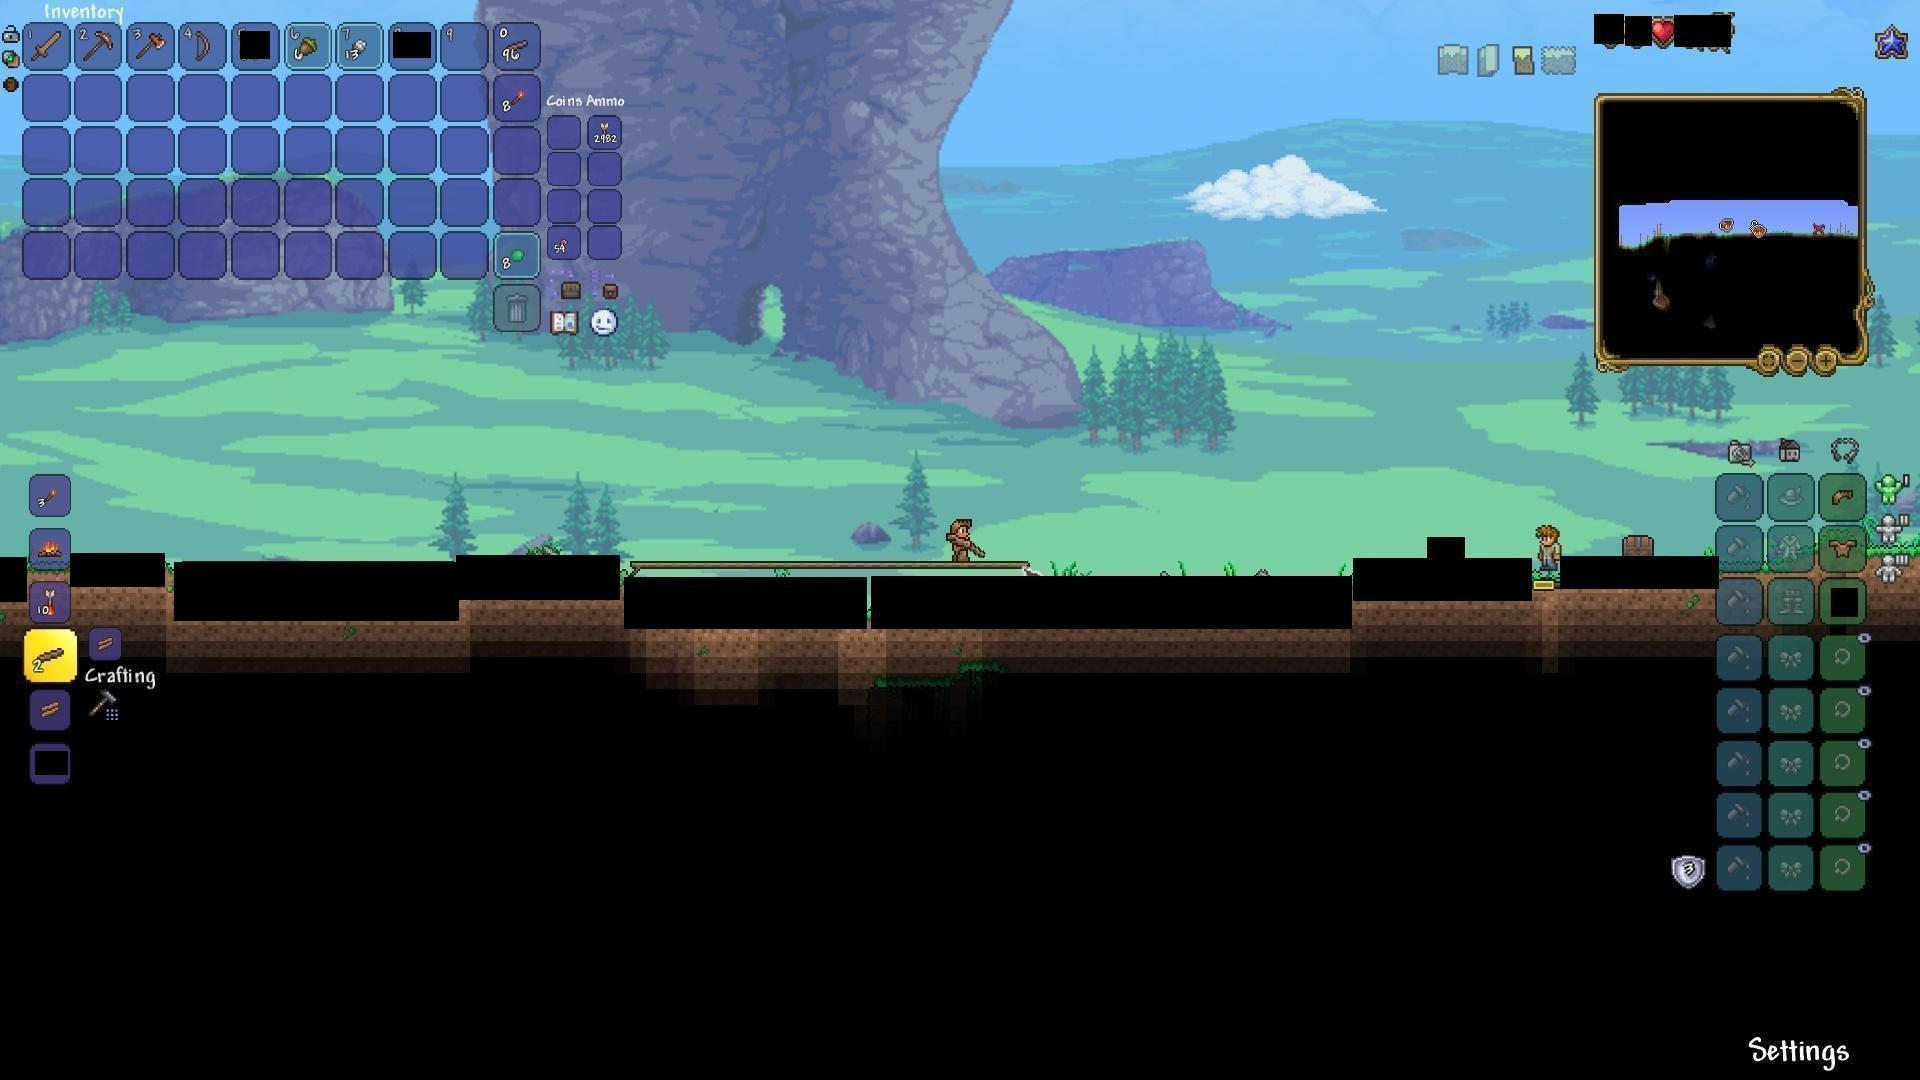breastplate: (1830, 537, 1859, 558)
heart: (1648, 17, 1676, 47)
helmet: (1828, 484, 1858, 509)
wood: (36, 695, 65, 721), (92, 632, 117, 657)
